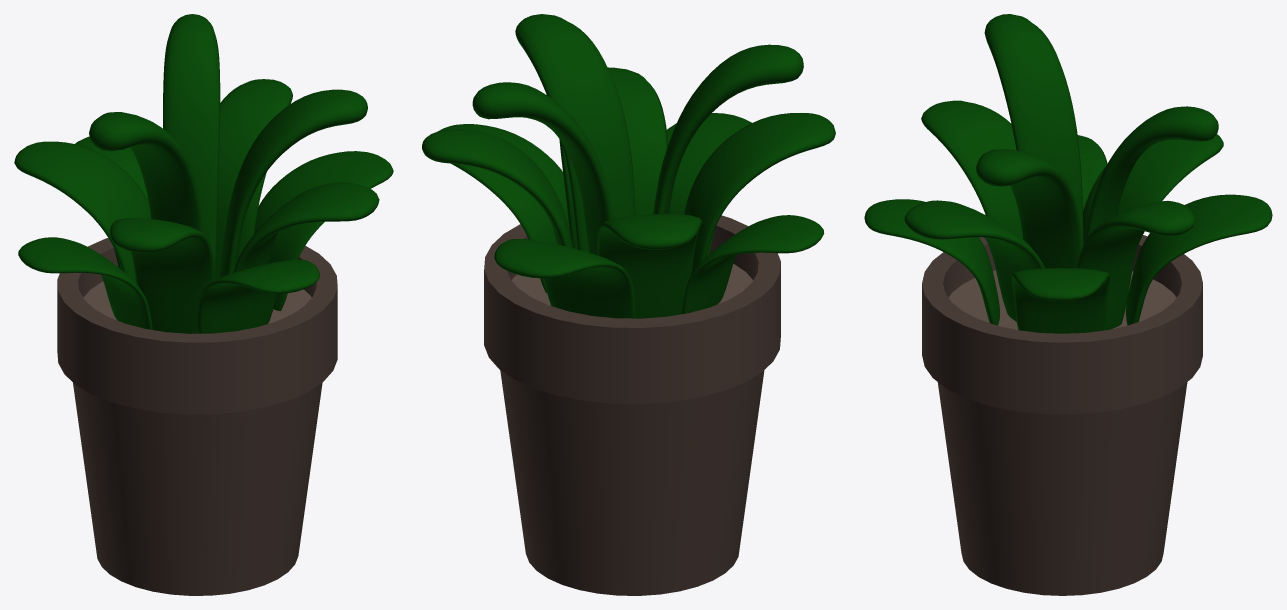
File: Plante2_7.fbx
The picture shows the model from 3 angles, left to right: view 1: azimuth 30°, elevation 25°; view 2: azimuth 150°, elevation 25°; view 3: azimuth 270°, elevation 25°; orthographic projection. The views are drawn at different scales.
Visible parts, largest first — view 1: pCylinder730, pCube1938, pCube1935, pCube1929, pCube1937, pCube1939, pCube1931, pCube1934, pCube1933, pCube1930, pCube1936, pCylinder731 (+1 smaller); view 2: pCylinder730, pCube1937, pCube1935, pCube1929, pCube1932, pCube1939, pCube1938, pCube1930, pCube1931, pCube1936, pCube1933, pCube1934 (+1 smaller); view 3: pCylinder730, pCube1939, pCube1937, pCube1933, pCube1935, pCube1932, pCube1931, pCube1930, pCube1938, pCube1929, pCube1934, pCylinder731 (+1 smaller).
Boxes of the visible parts, x1,y1,x2,y2 form: pCylinder730: [57, 238, 337, 595]; pCube1938: [163, 14, 220, 278]; pCube1935: [110, 218, 214, 333]; pCube1929: [14, 141, 151, 282]; pCube1937: [219, 89, 367, 277]; pCube1939: [89, 112, 203, 233]; pCube1931: [215, 79, 292, 280]; pCube1934: [198, 259, 319, 333]; pCube1933: [254, 151, 393, 310]; pCube1930: [233, 182, 379, 272]; pCube1936: [18, 237, 152, 329]; pCylinder731: [83, 281, 311, 323]; pCylinder730: [484, 215, 780, 595]; pCube1937: [515, 14, 635, 252]; pCube1935: [684, 113, 835, 274]; pCube1929: [597, 214, 702, 318]; pCube1932: [494, 239, 635, 318]; pCube1939: [653, 44, 803, 214]; pCube1938: [472, 82, 613, 254]; pCube1930: [559, 67, 668, 249]; pCube1931: [422, 129, 573, 247]; pCube1936: [681, 215, 824, 314]; pCube1933: [438, 124, 569, 293]; pCube1934: [666, 113, 751, 256]; pCylinder730: [922, 235, 1202, 595]; pCube1939: [984, 14, 1083, 246]; pCube1937: [976, 149, 1082, 268]; pCube1933: [1011, 268, 1110, 333]; pCube1935: [921, 100, 1022, 238]; pCube1932: [1126, 194, 1272, 325]; pCube1931: [1077, 200, 1195, 330]; pCube1930: [904, 200, 1044, 321]; pCube1938: [1085, 106, 1218, 240]; pCube1929: [1083, 134, 1223, 244]; pCube1934: [864, 199, 999, 325]; pCylinder731: [948, 270, 1176, 329].
Bounding box in the file's own units: 16.65 × 21.16 × 16.27.
